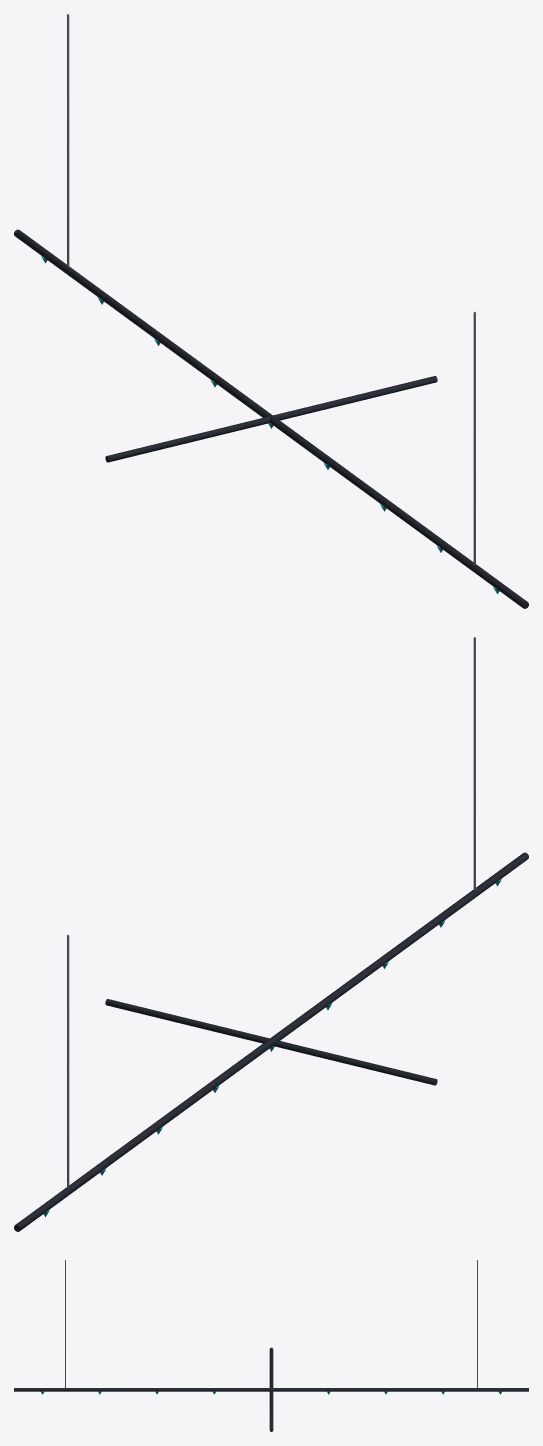
Rendered from SM_Station_RainRig.fbx.
3 renders of one model, top to bottom at view 1: azimuth 30°, elevation 25°; view 2: azimuth 150°, elevation 25°; view 3: azimuth 270°, elevation 25°, orthographic. The views are drawn at different scales.
Parts seen in each view (by area): view 1: SM_Station_RainRig; view 2: SM_Station_RainRig; view 3: SM_Station_RainRig.
Boxes of the visible parts, bbox=[...] form: SM_Station_RainRig: bbox=[14, 14, 528, 608]; SM_Station_RainRig: bbox=[14, 637, 528, 1231]; SM_Station_RainRig: bbox=[14, 1260, 528, 1431].
Size of the model in its own units: 672 by 519 by 1800.
